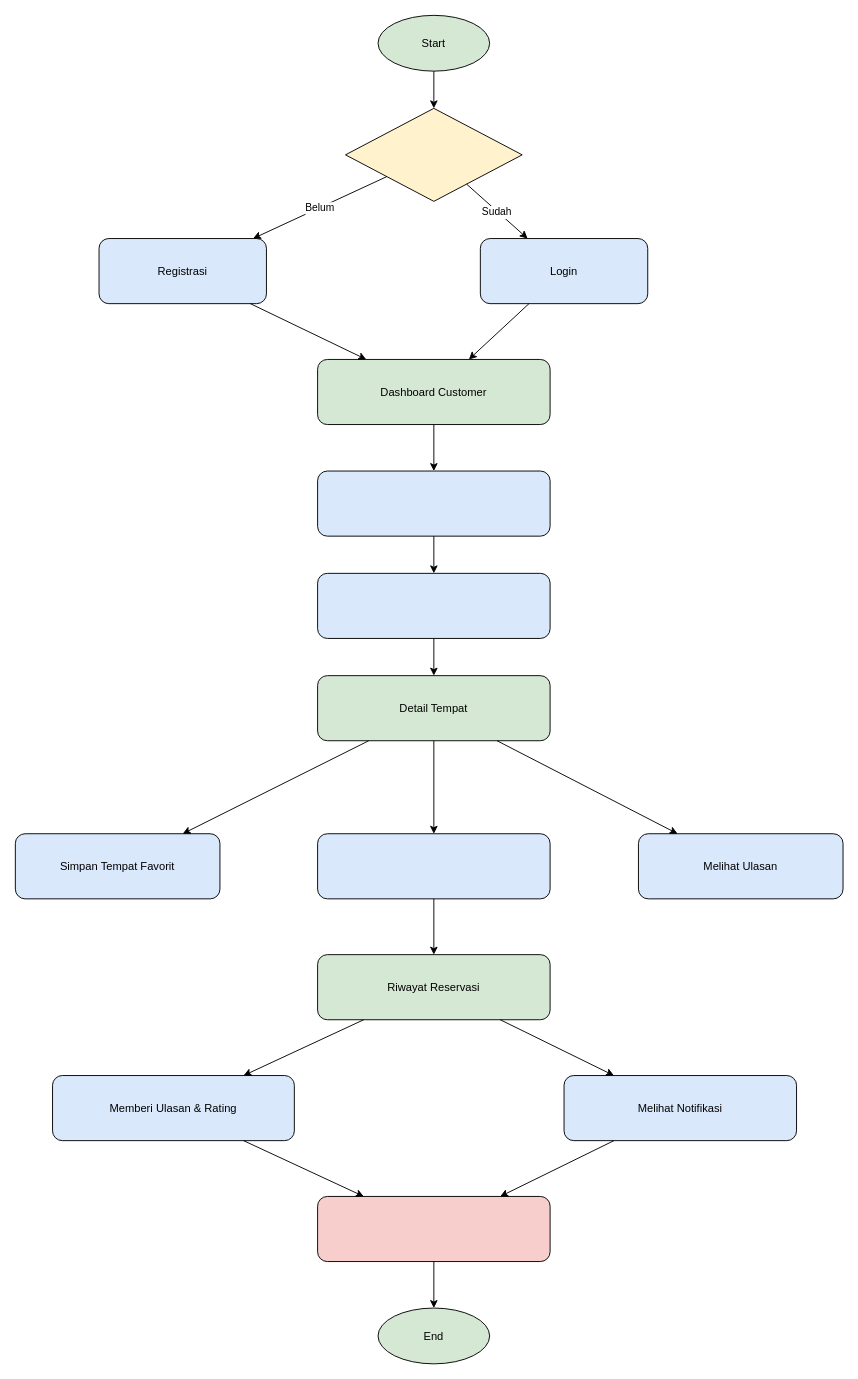
Some shapes in this 858 by 1379 pixel diagram are drawn without their labels. The shapes that lost their labels are listed below. From the top down, each one's centre as x and y in pixels, then its label:
At (433,154): "Sudah Memiliki Akun?".
At (433,503): "Melihat Tempat".
At (433,605): "Memilih Tempat".
At (433,866): "Melakukan Reservasi".
At (433,1229): "Logout".
